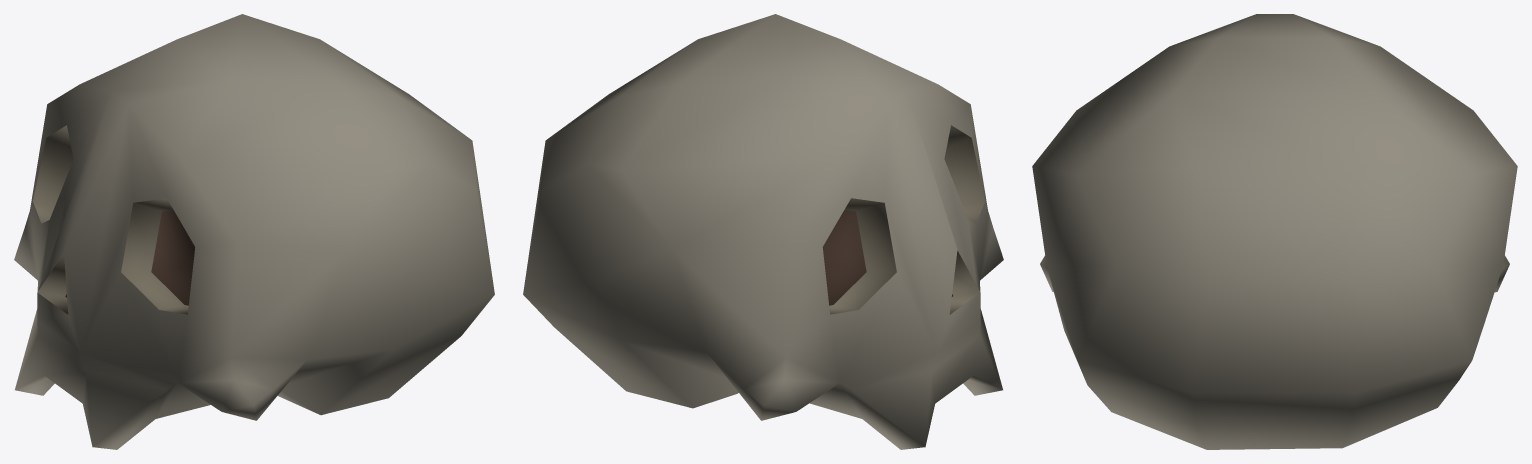
The model's file is skullprop.fbx.
3 views of the same model, side by side, from view 1: azimuth 30°, elevation 25°; view 2: azimuth 150°, elevation 25°; view 3: azimuth 270°, elevation 25° (orthographic). The views are drawn at different scales.
Visible parts, largest first — view 1: Cube.002; view 2: Cube.002; view 3: Cube.002.
Part boxes in pixels (left/top/right/bottom): Cube.002: left=14, top=14, right=494, bottom=449; Cube.002: left=523, top=14, right=1003, bottom=449; Cube.002: left=1032, top=14, right=1517, bottom=449.
Size of the model in its own units: 88.07 by 71.85 by 91.03.
